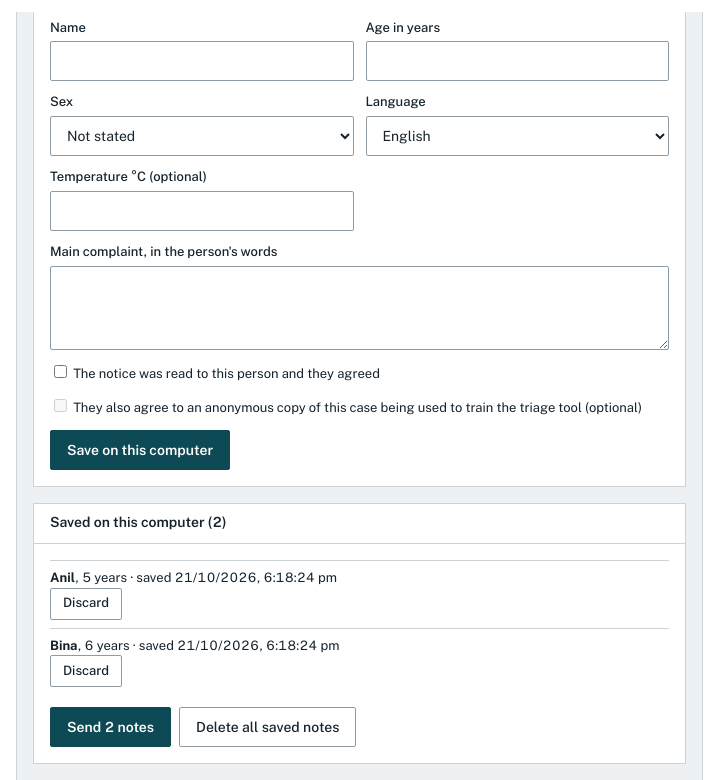
Test case: OfflinePage › discard deletes one note; delete-all wipes everything
Expected: the text "Anil" is shown, [50,570,75,585]
Click the button "Discard" below "Anil". click: click(86, 604)
box: [50,588,122,620]
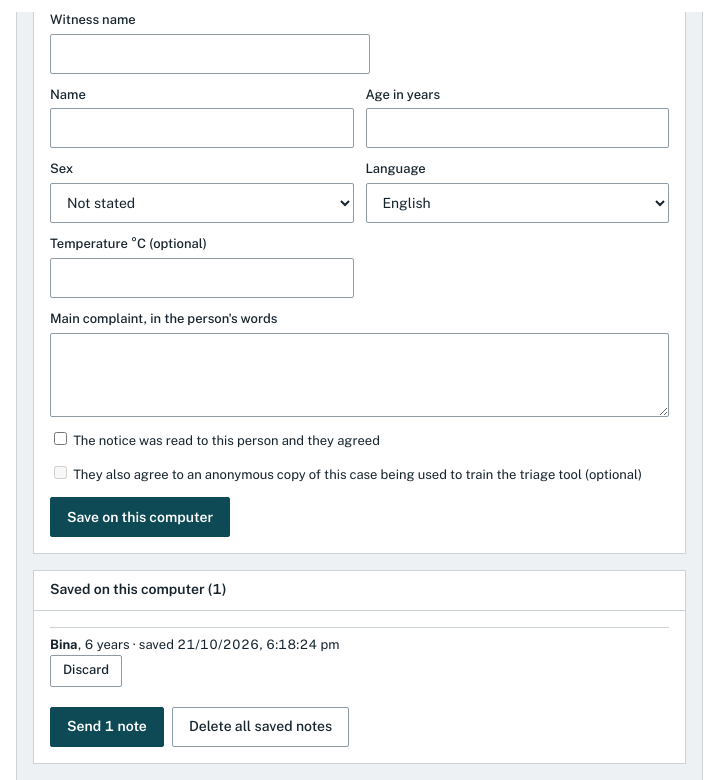
Expected: the text "Bina" is shown, [50,637,78,652]
Expected: the text "Anil" is gone
Click the button "Delete all saved notes". click: click(261, 726)
box: [172,706,349,746]
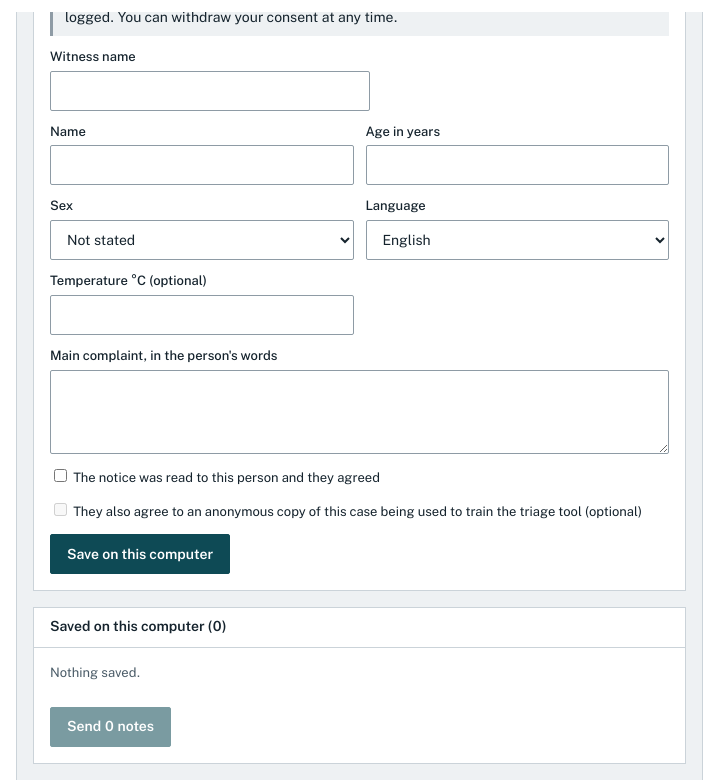
Expected: the text "Nothing saved." is shown, [50,665,140,680]
